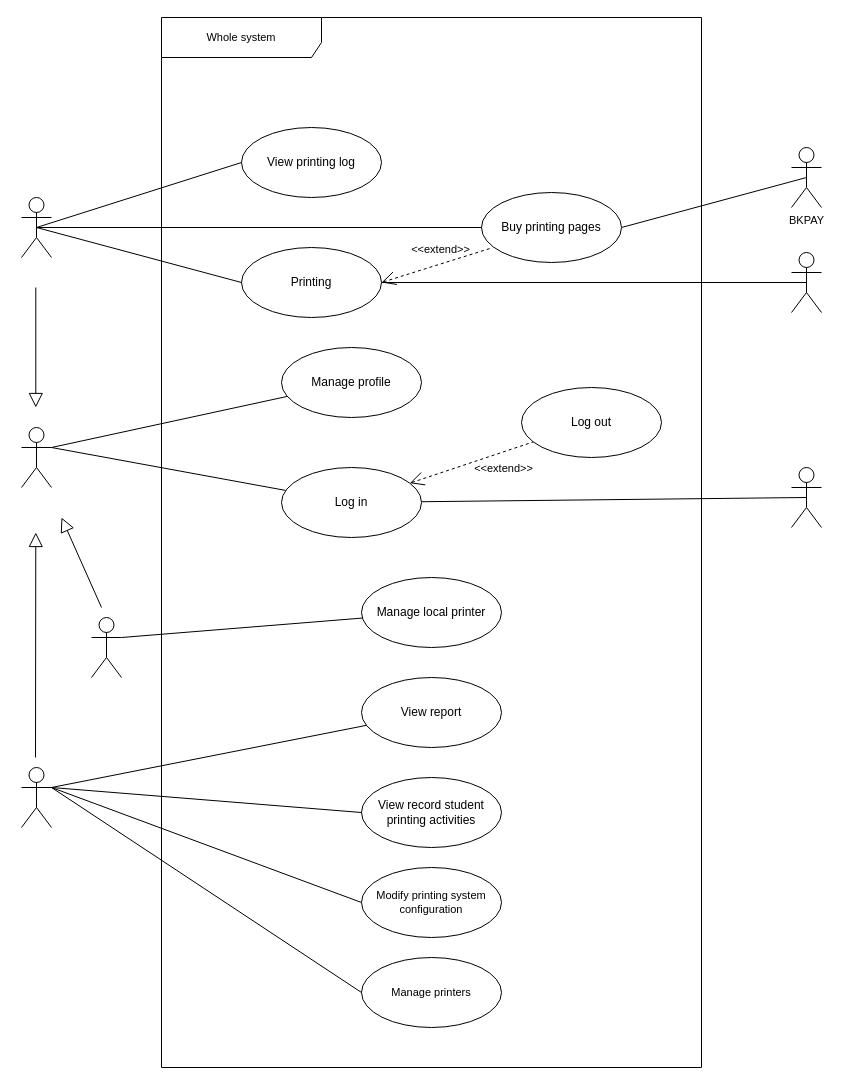
Some shapes in this 858 by 1085 pixel diagram are drawn without their labels. Each missing label, with the centre of its shape:
HCMUT_SSO: the point at 806,497
Printer: the point at 806,282
SPSO: the point at 36,797
Staff: the point at 106,647
Student: the point at 36,227
User: the point at 36,457
